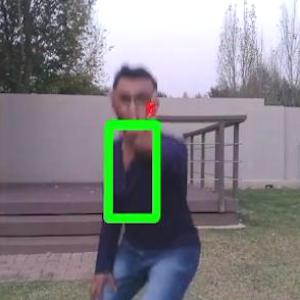takeoff-hand: (105, 76, 173, 145)
